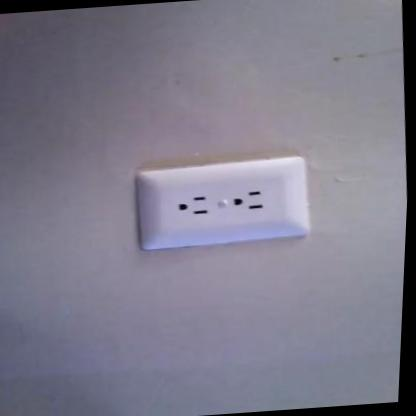OUTLET: (138, 156, 312, 251)
